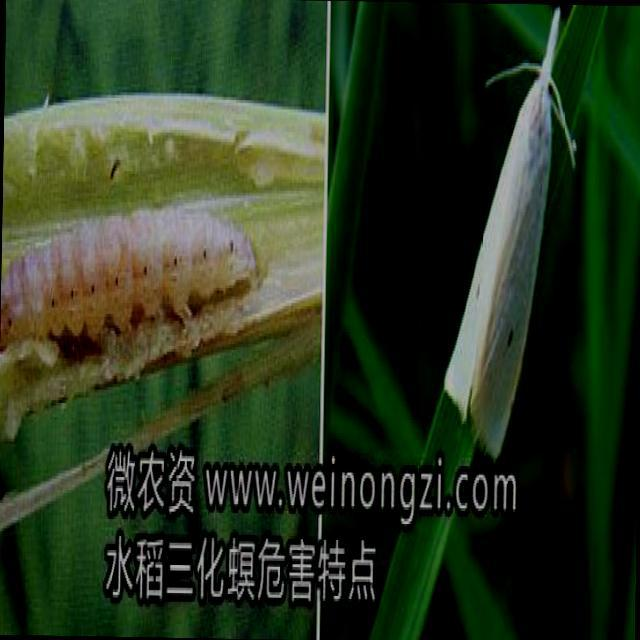stem borer: (444, 8, 575, 457), (0, 206, 259, 361)
